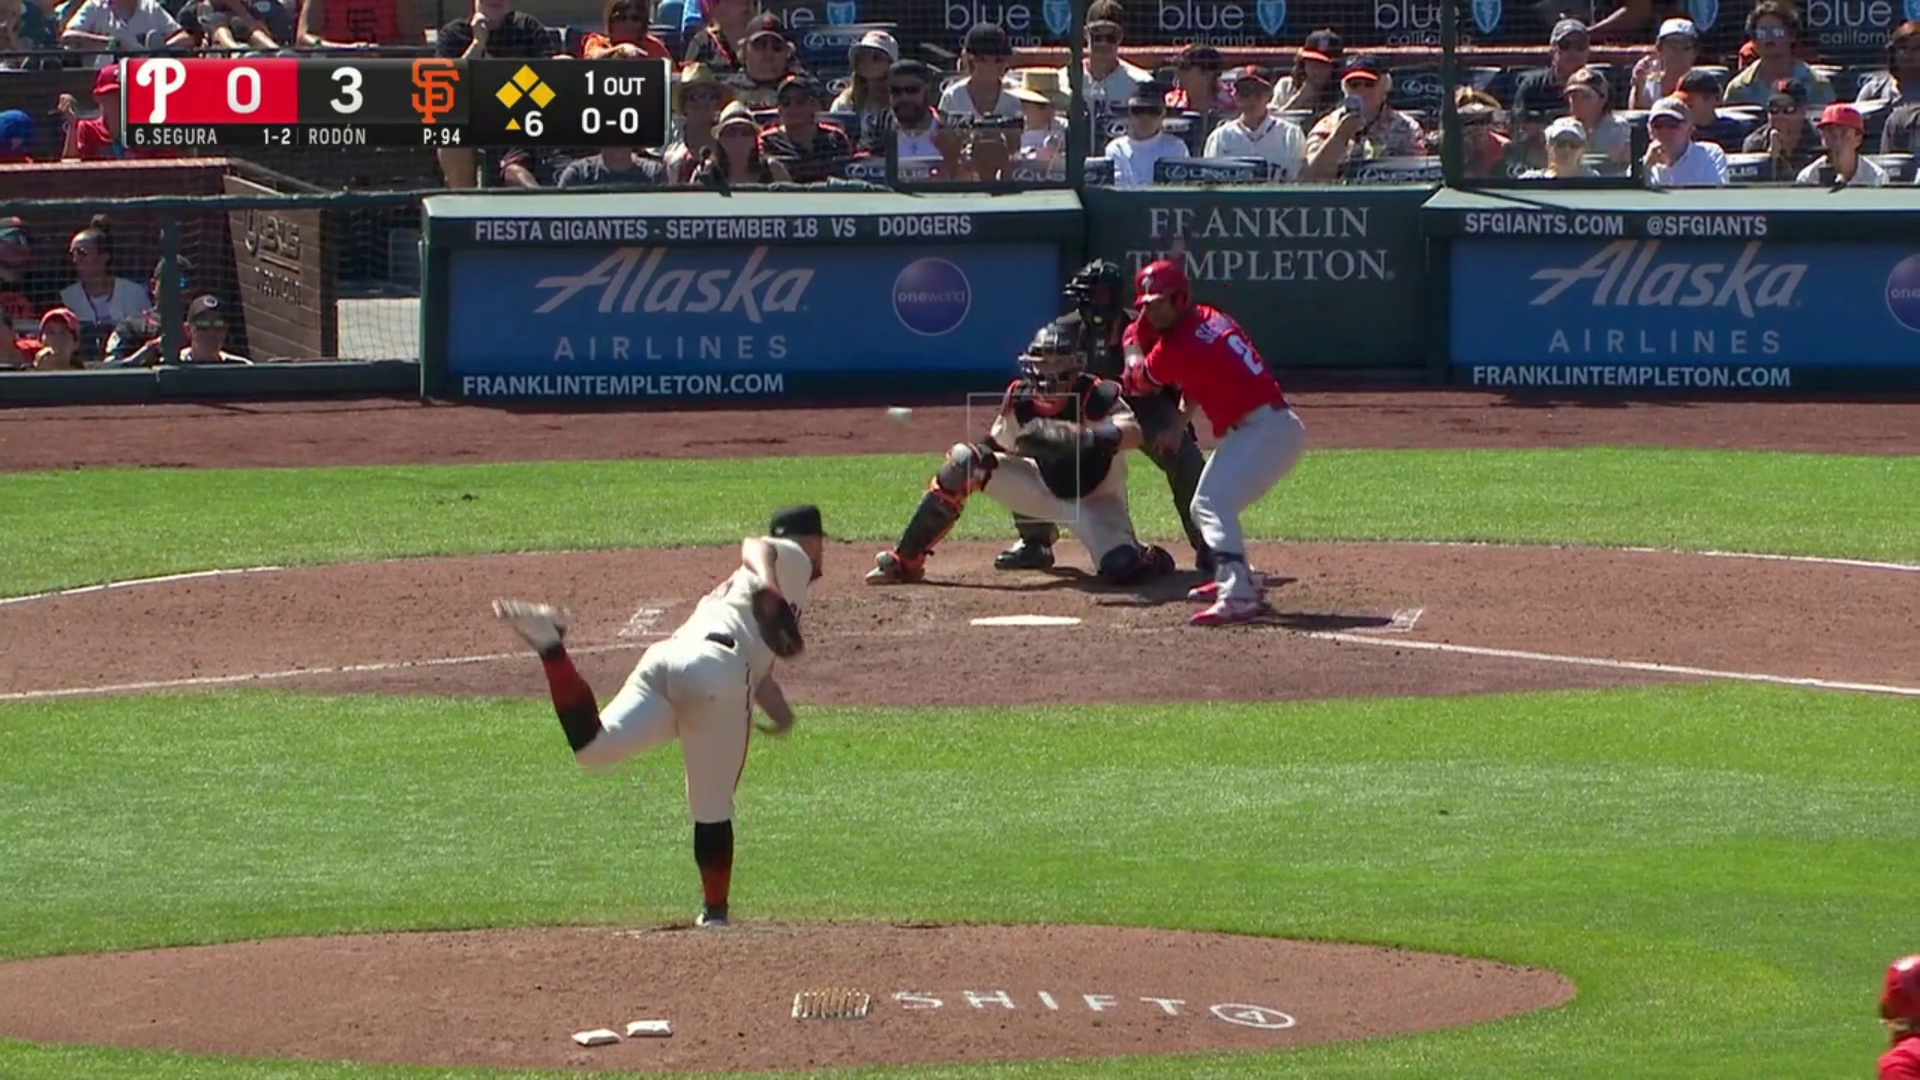baseball: (887, 406, 911, 423)
